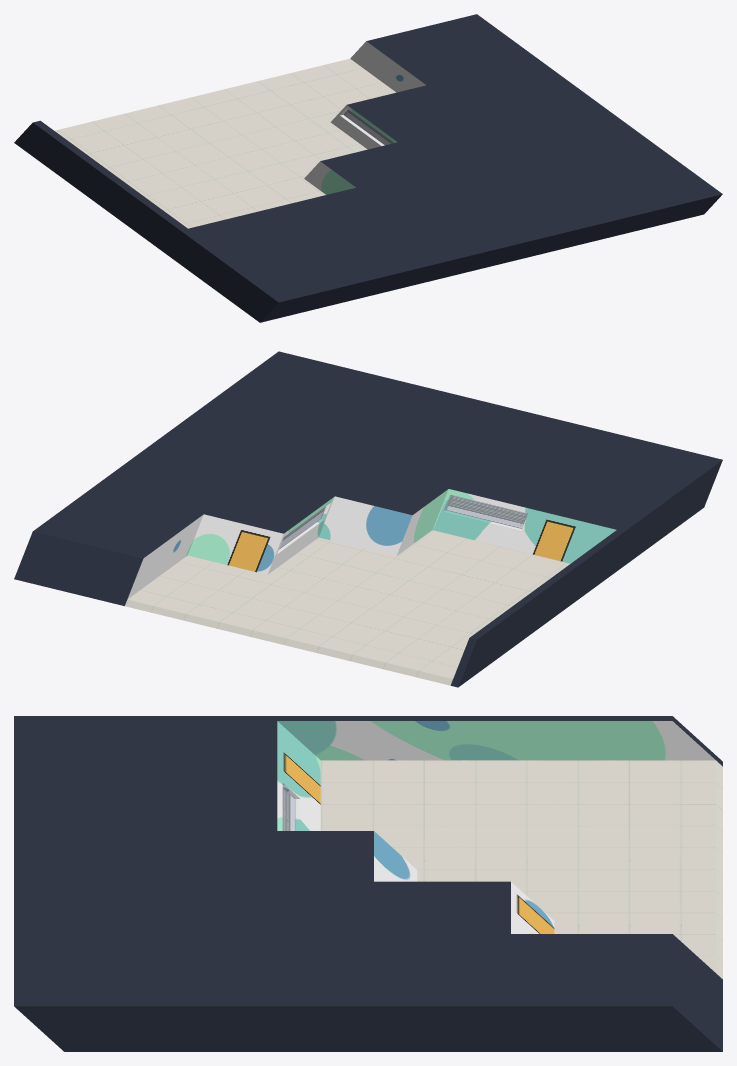
The picture shows the model from 3 angles, top to bottom: view 1: azimuth 30°, elevation 25°; view 2: azimuth 150°, elevation 25°; view 3: azimuth 270°, elevation 25°; orthographic projection. The views are drawn at different scales.
Visible parts, largest first — view 1: 主樓層; view 2: 主樓層; view 3: 主樓層.
Part boxes in pixels (left/top/right/bottom): 主樓層: left=14, top=14, right=722, bottom=322; 主樓層: left=14, top=351, right=722, bottom=687; 主樓層: left=14, top=716, right=722, bottom=1051.
Size of the model in its own units: 6591 by 483 by 6804.
